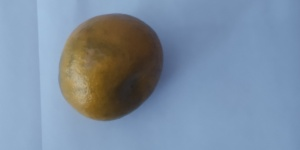BAD: (60, 13, 166, 122)
